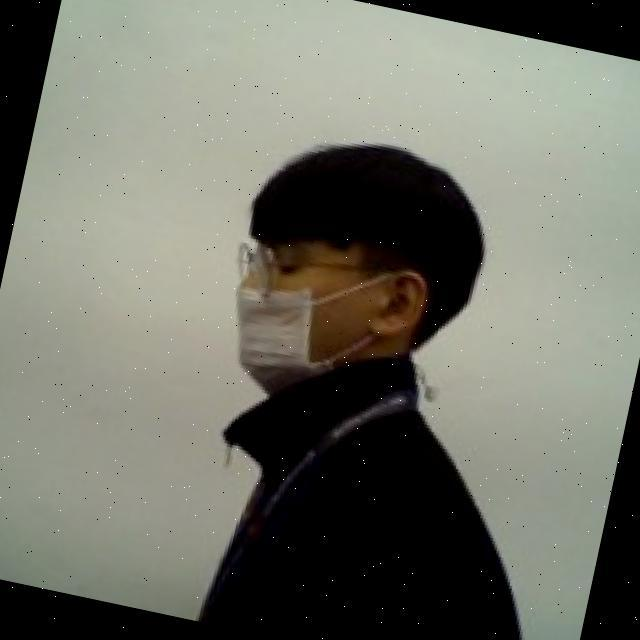mask: (212, 228, 432, 421)
no_gloves: (228, 112, 506, 332)
